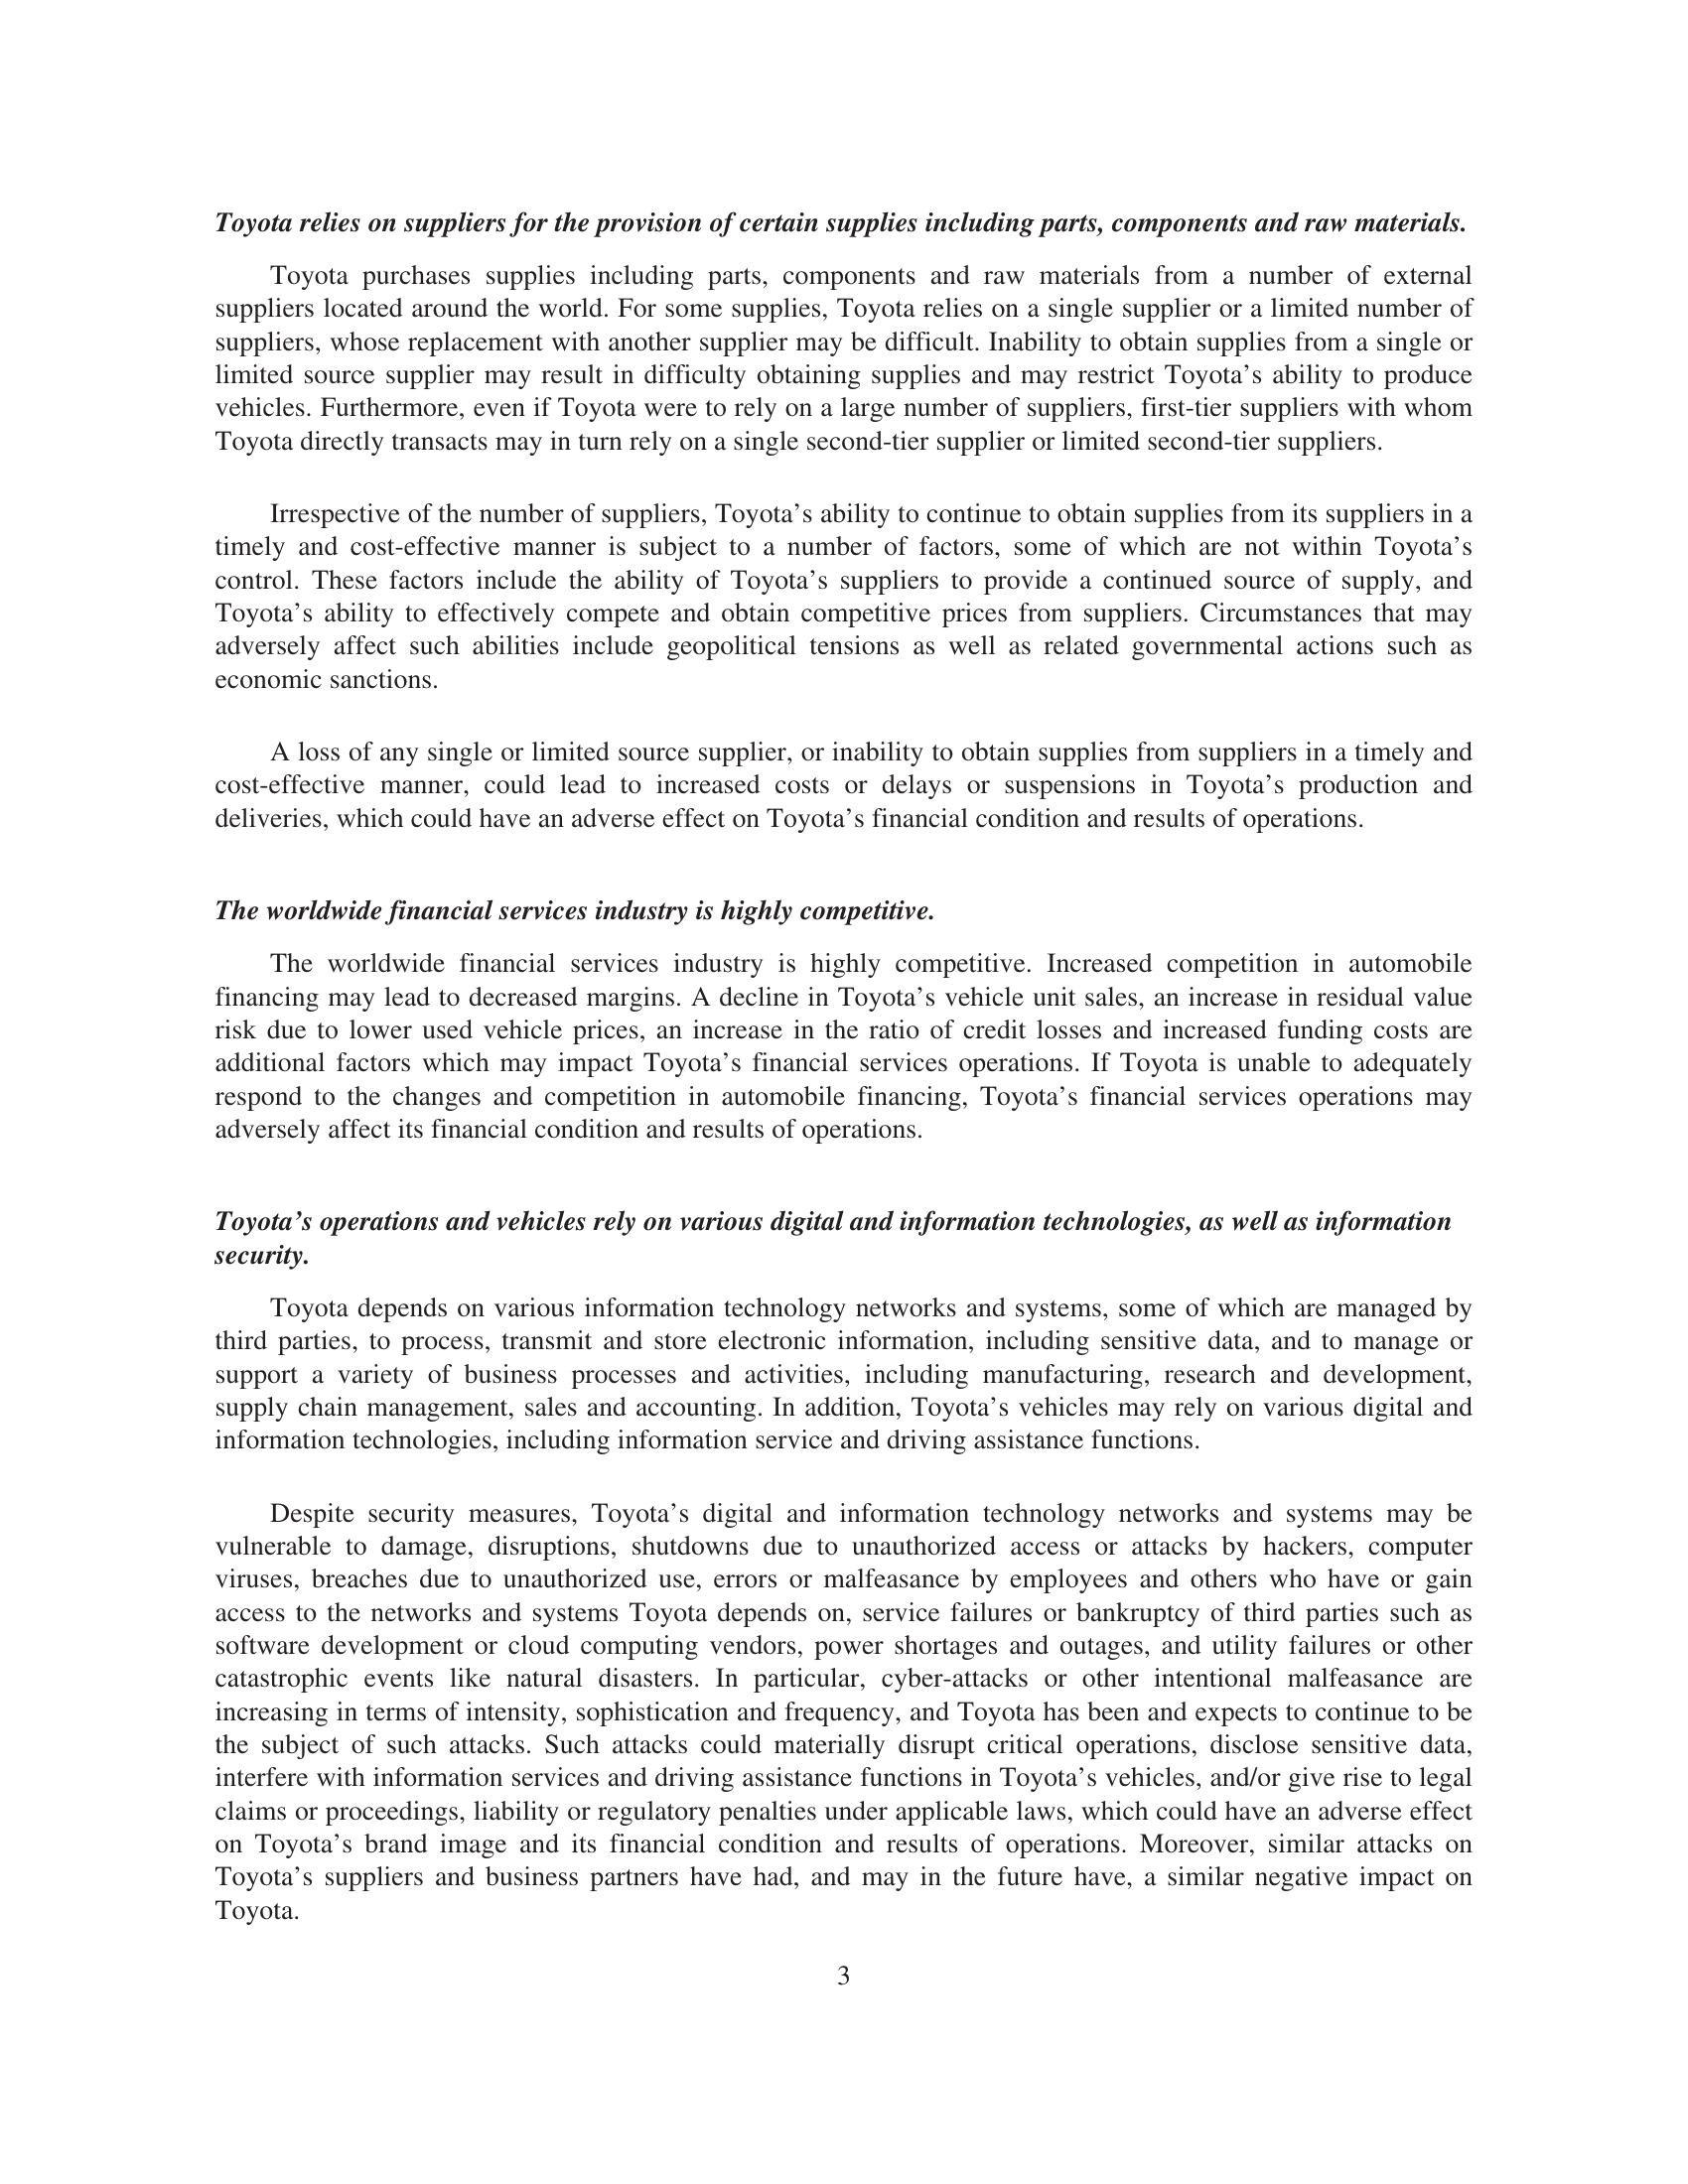Footer: (0, 1929, 1688, 2184)
Header: (0, 0, 1688, 175)
